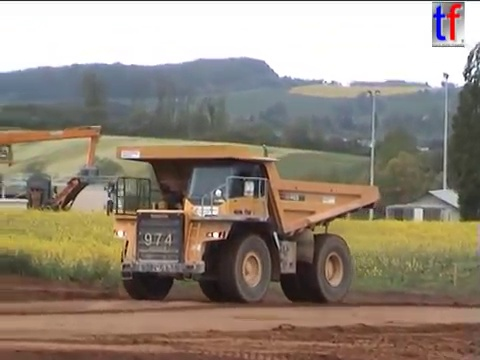crane: (1, 124, 104, 208)
truck: (102, 142, 382, 305)
